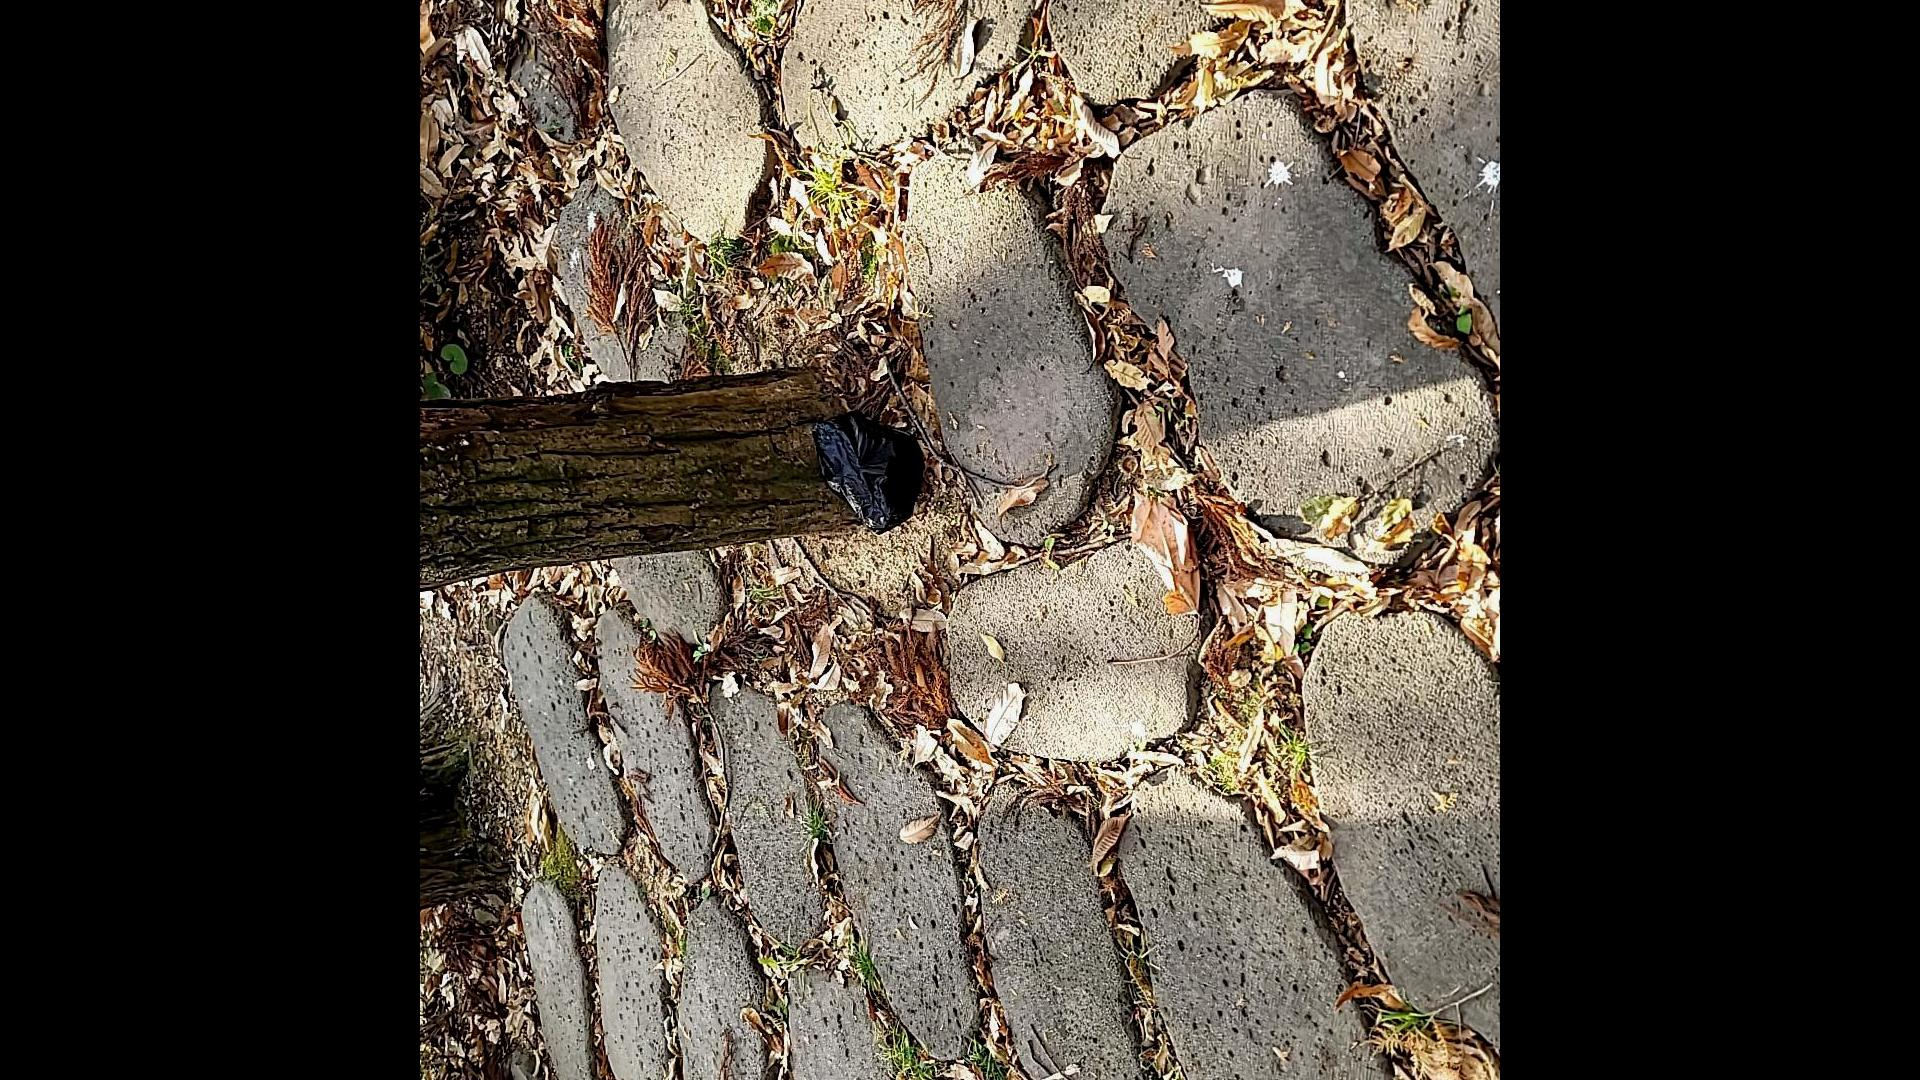black_bag: (808, 404, 928, 550)
